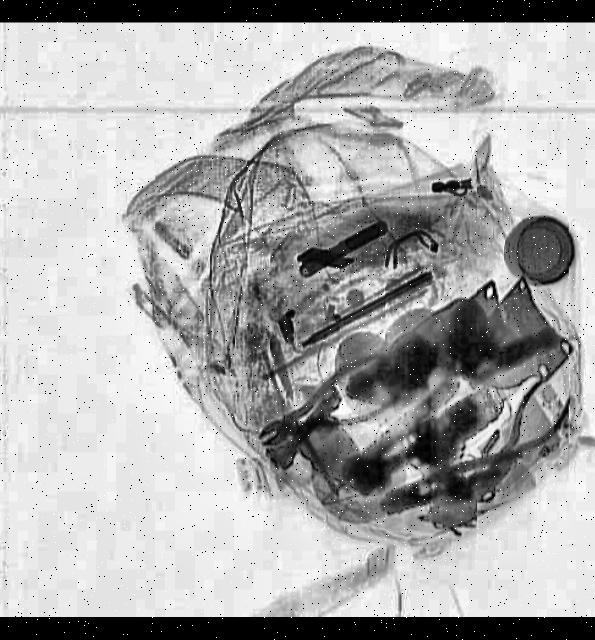Pliers: (243, 344, 412, 468), (462, 370, 578, 508)
